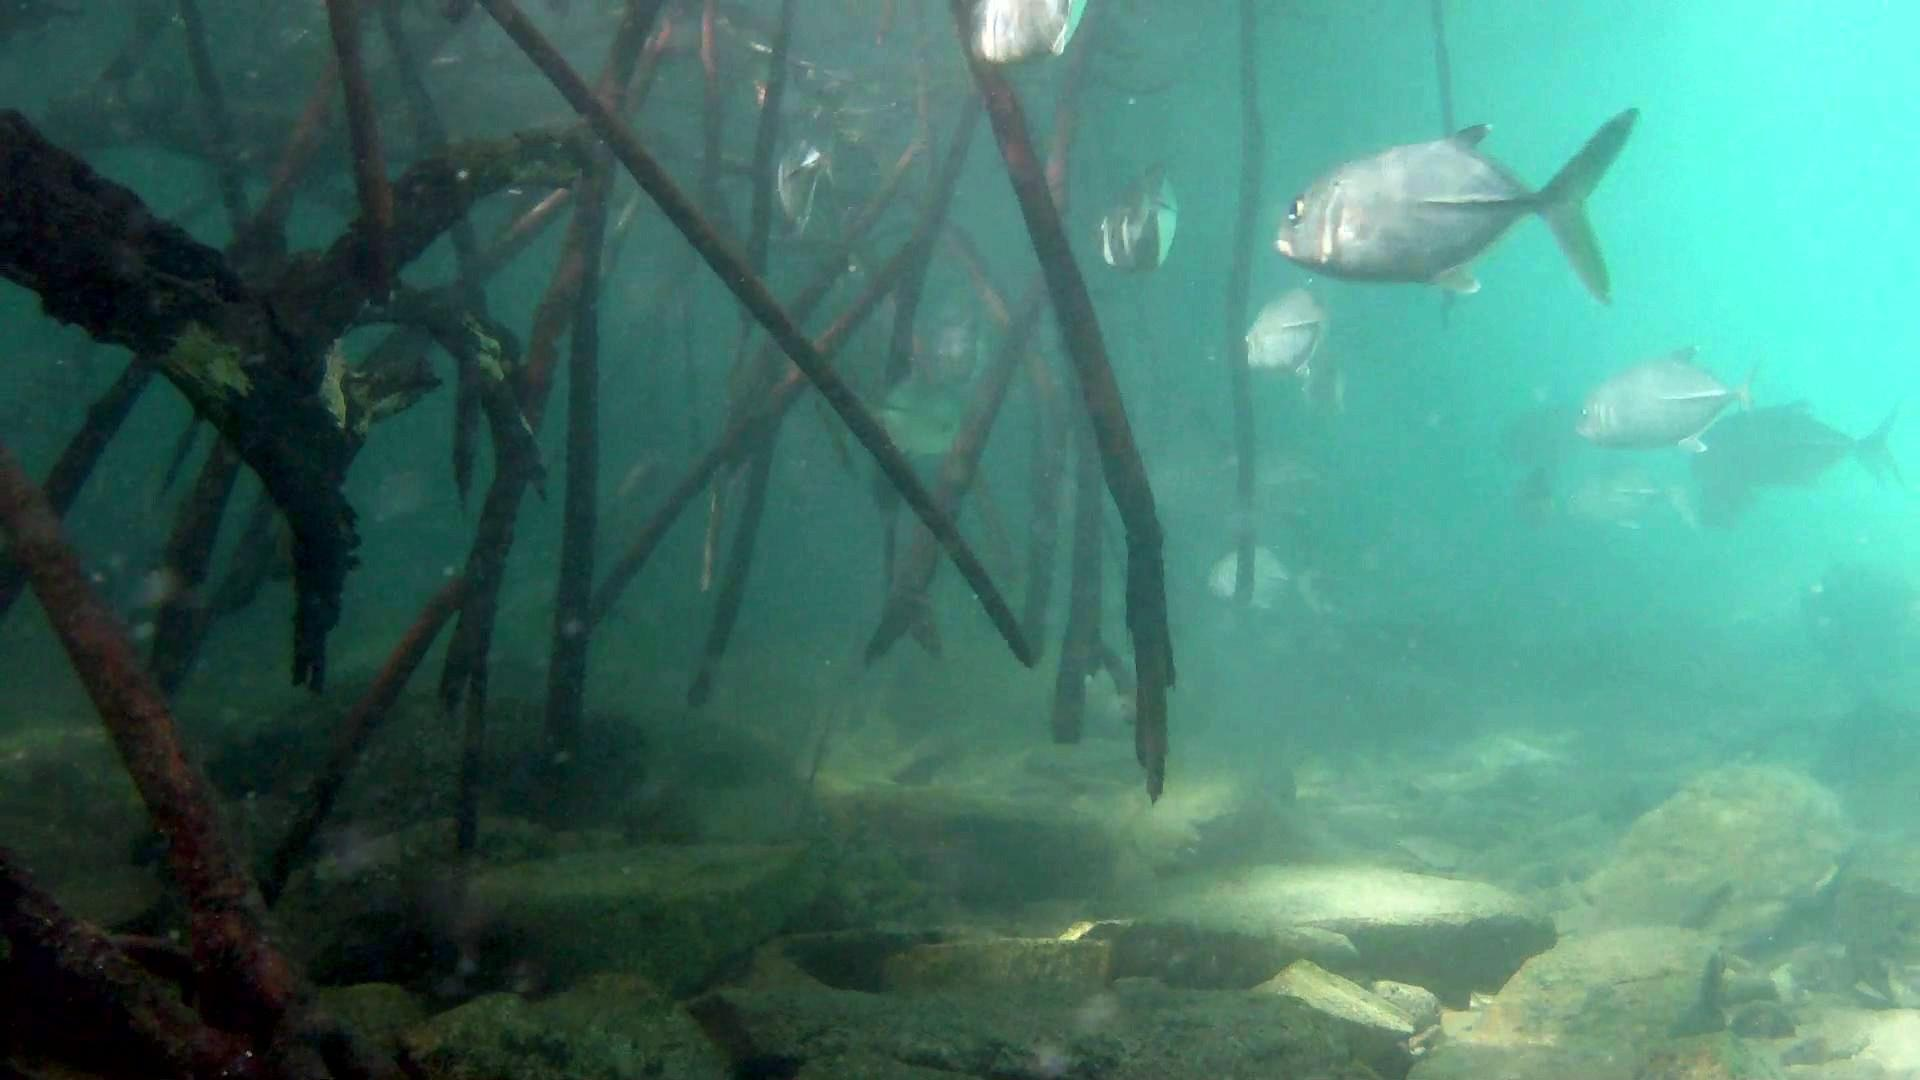caranx: (1274, 91, 1647, 305)
